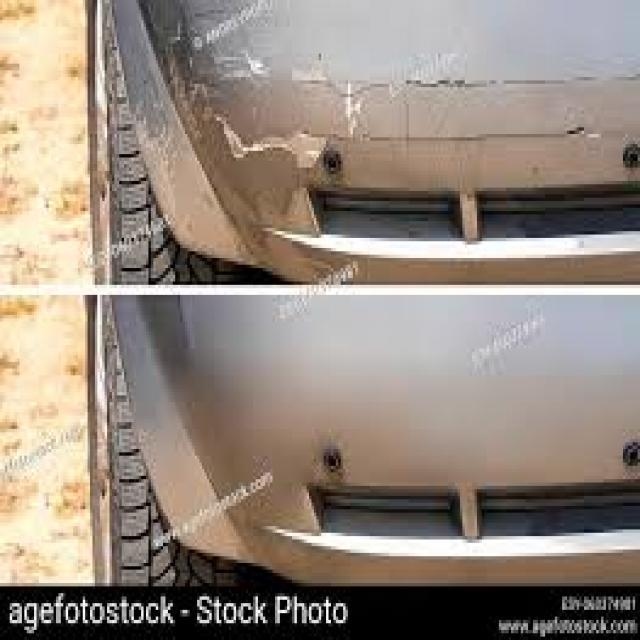dent-or-scratch: (187, 64, 640, 165)
